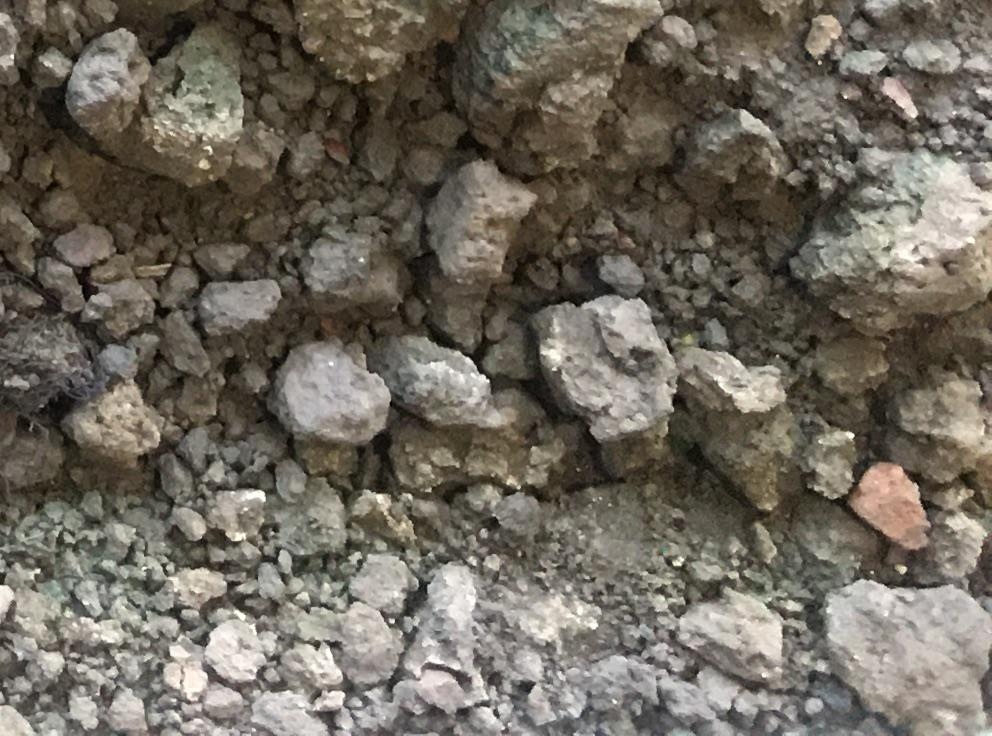block: (797, 152, 992, 330), (452, 3, 647, 174), (68, 28, 247, 180), (819, 582, 984, 736), (531, 299, 668, 468), (673, 339, 785, 513), (262, 339, 385, 445), (428, 159, 522, 288)
